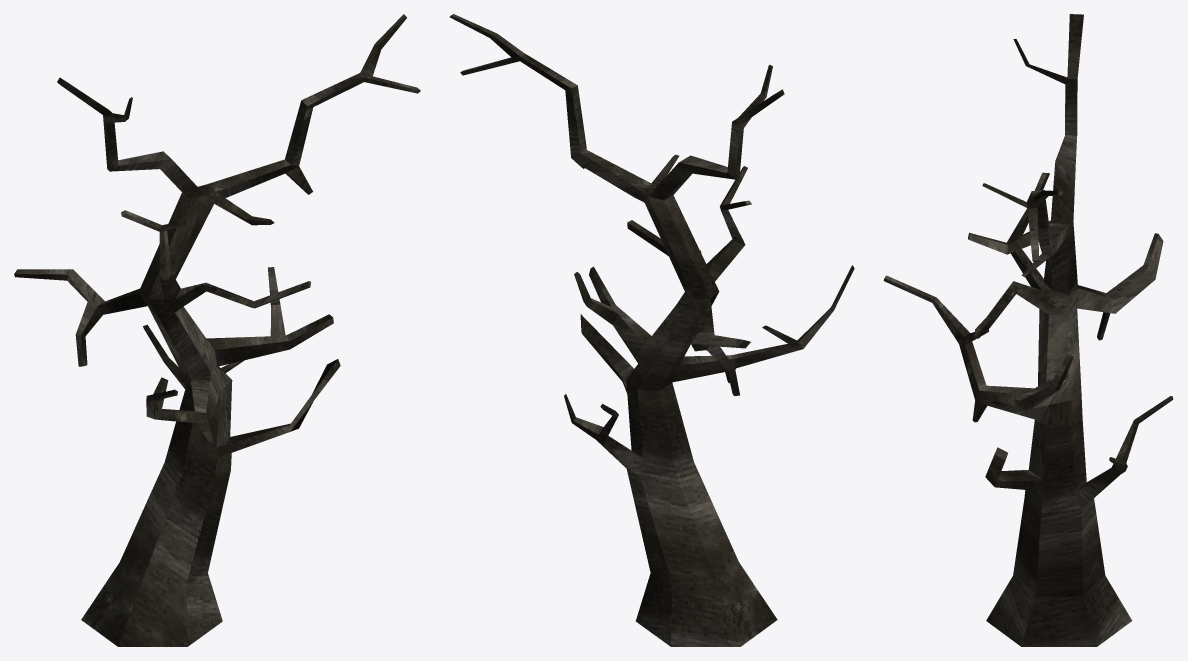
Rendered from Dead_Tree.fbx.
3 renders of one model, left to right at view 1: azimuth 30°, elevation 25°; view 2: azimuth 150°, elevation 25°; view 3: azimuth 270°, elevation 25°, orthographic. The views are drawn at different scales.
Visible parts, largest first — view 1: Dead_Tree; view 2: Dead_Tree; view 3: Dead_Tree.
Part boxes in pixels (<box>): Dead_Tree: <box>14,14,420,646</box>; Dead_Tree: <box>449,14,854,646</box>; Dead_Tree: <box>883,14,1173,646</box>.
Size of the model in its own units: 331 by 505 by 234.
Materials: 1 (1 with a texture image).
